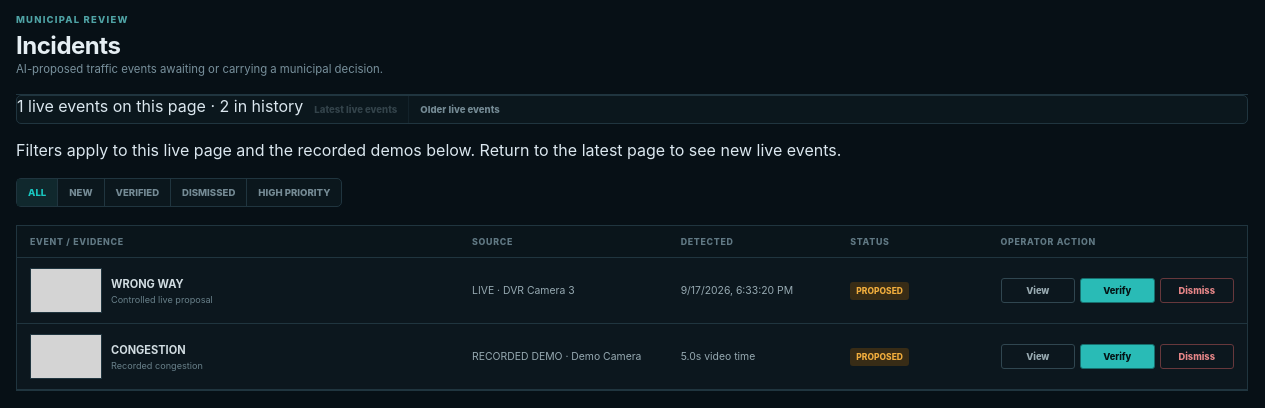
Test case: pages live history without retaining older pages and can return to latest
The image size is (1265, 408).
Expected: the text "Controlled live proposal" is shown, [111, 294, 213, 304]
Click the button "Older live events" at (460, 110), box [409, 96, 511, 123]
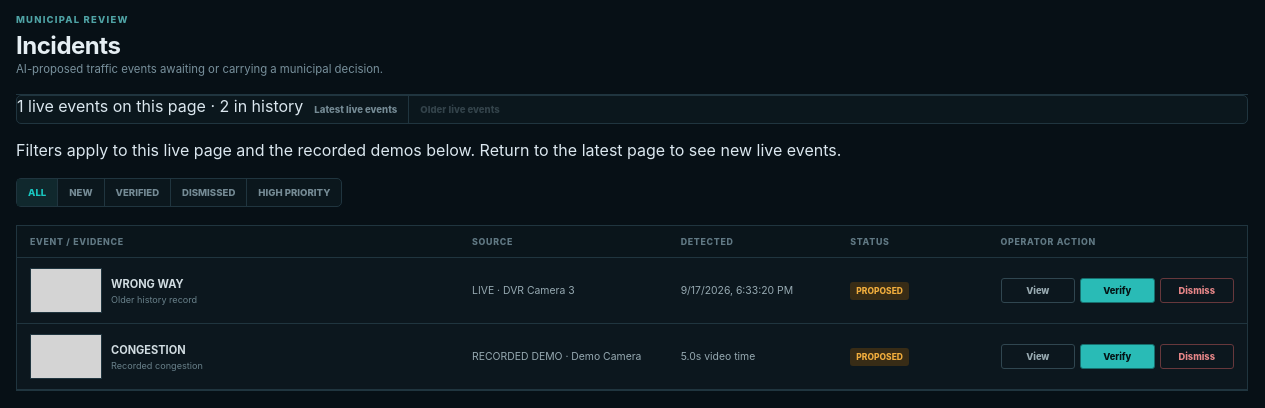
Result: the text "Older history record" is shown at [111, 294, 197, 304]
Result: the button "Controlled live proposal" is gone
Result: the button "Older live events" is disabled at [409, 96, 511, 123]
Click the button "Latest live events" at (356, 110), box [303, 96, 409, 123]
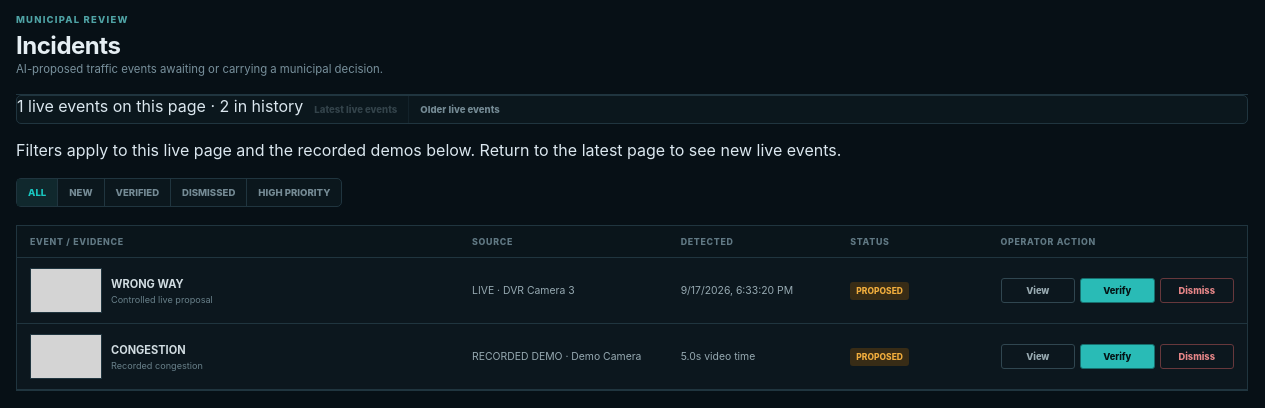
Result: the text "Controlled live proposal" is shown at [111, 294, 213, 304]
Result: the button "Older history record" is gone
